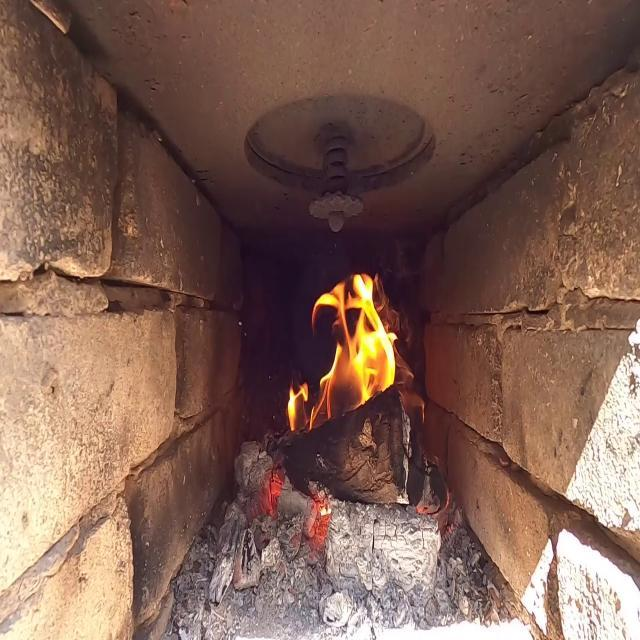Fire: (286, 264, 402, 441)
